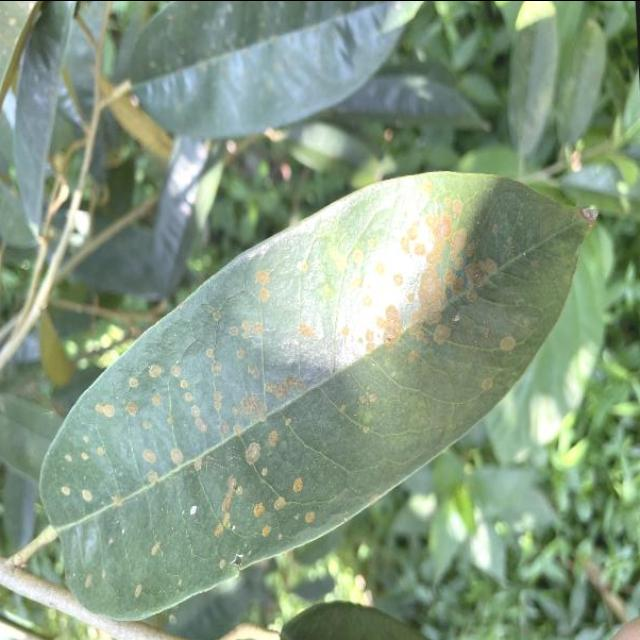Algal Leaf Spot: (18, 150, 628, 624)
